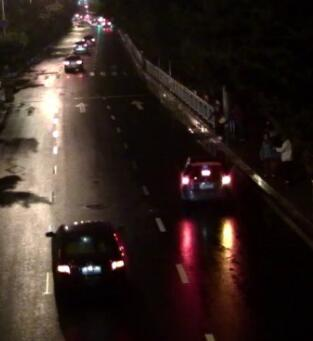car: (46, 220, 126, 294), (174, 148, 235, 204), (61, 53, 85, 72), (71, 39, 89, 54), (83, 31, 95, 44)
